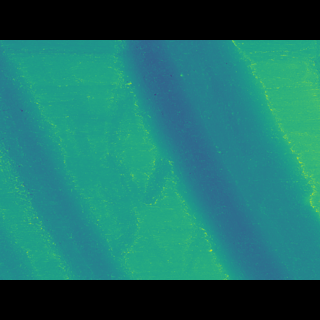Loch: (114, 69, 320, 250), (0, 74, 136, 250)
